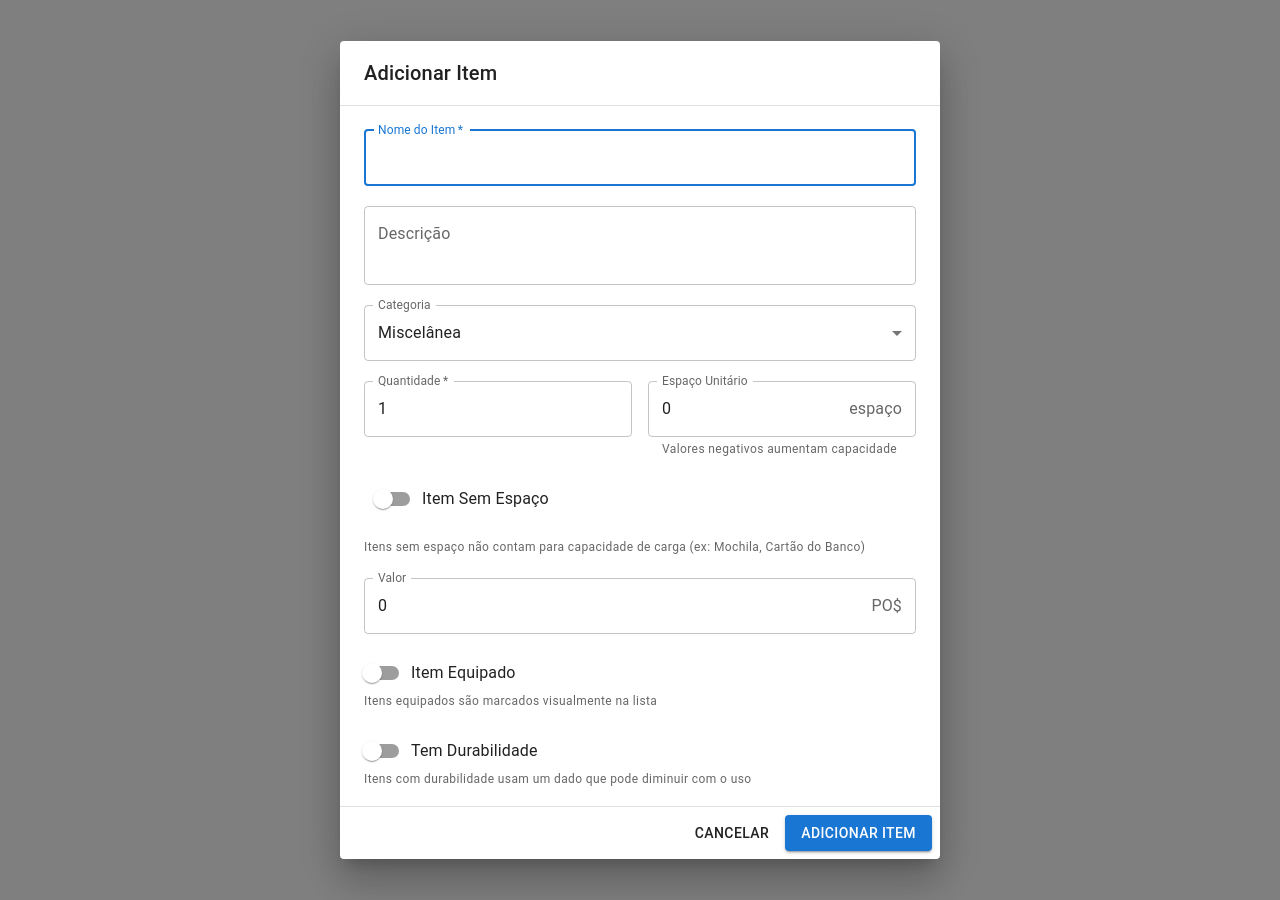
Test: AddItemDialog › Categorias › deve permitir selecionar diferentes categorias
# Abrir select de categoria
Click the dropdown named "categoria" at (420, 333), box top-left (378, 323), bottom-right (461, 342)
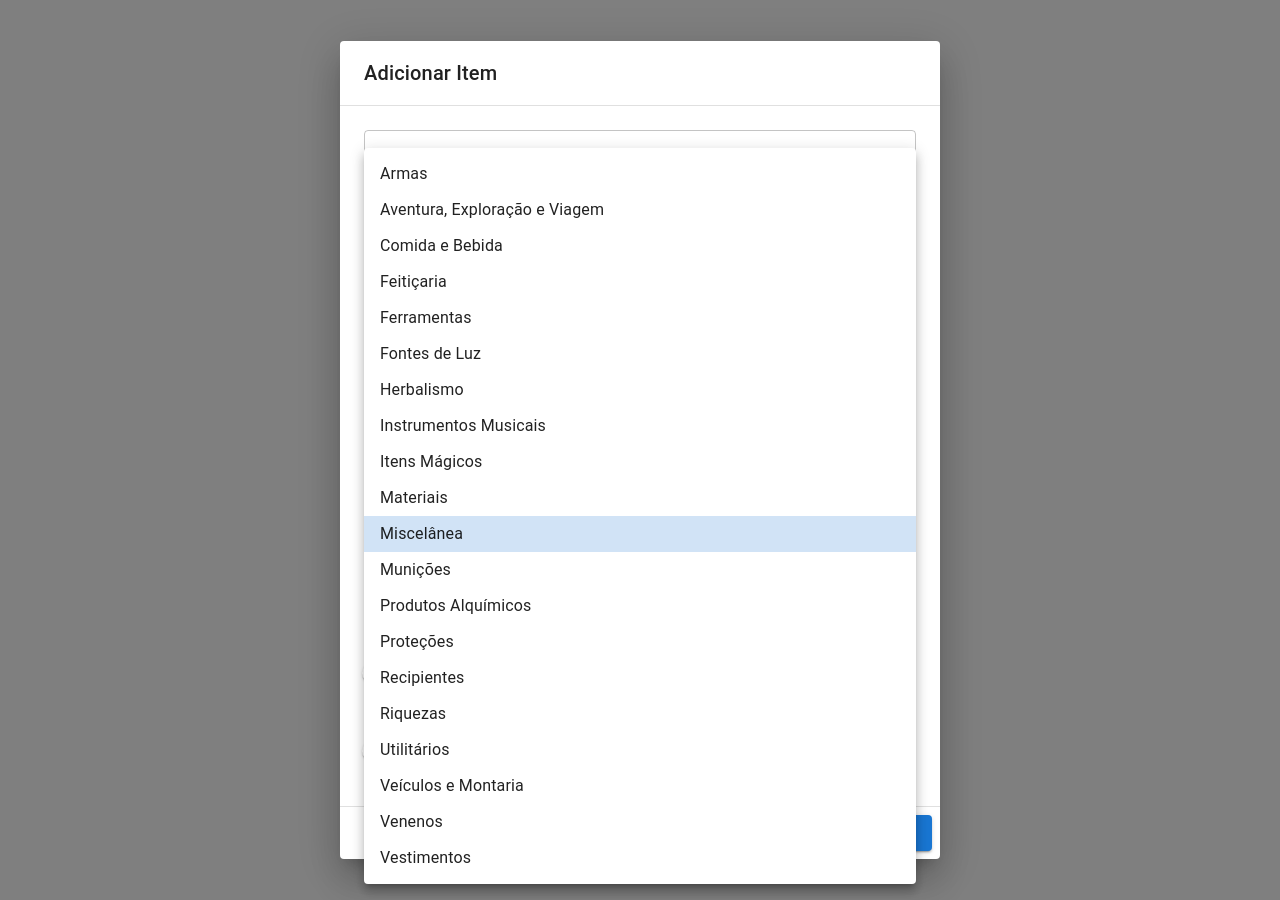
Now the option "Armas" is shown, box top-left (380, 164), bottom-right (428, 183)
Now the option "Ferramentas" is shown, box top-left (380, 308), bottom-right (472, 327)
Now the option "Comida e Bebida" is shown, box top-left (380, 236), bottom-right (503, 255)
